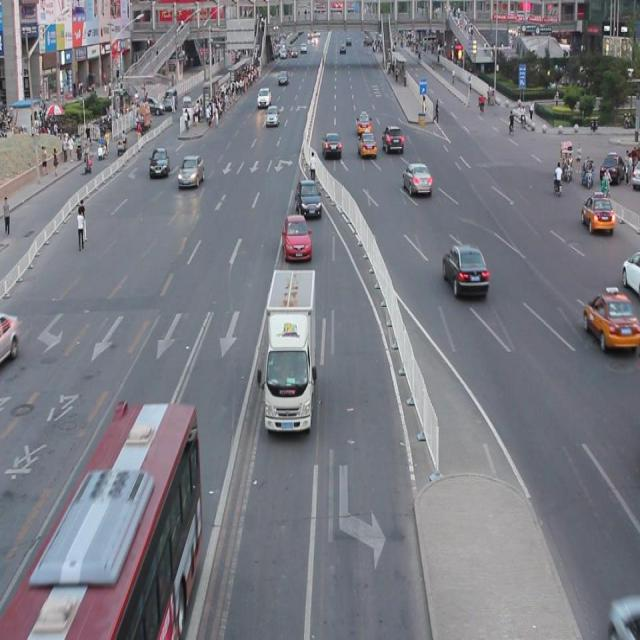bus: (262, 267, 316, 429)
car: (582, 287, 640, 348), (442, 241, 488, 298), (580, 192, 614, 232), (282, 213, 310, 261), (296, 178, 321, 217), (402, 162, 430, 194), (620, 250, 640, 294), (177, 156, 204, 188)
van: (1, 402, 200, 640)
